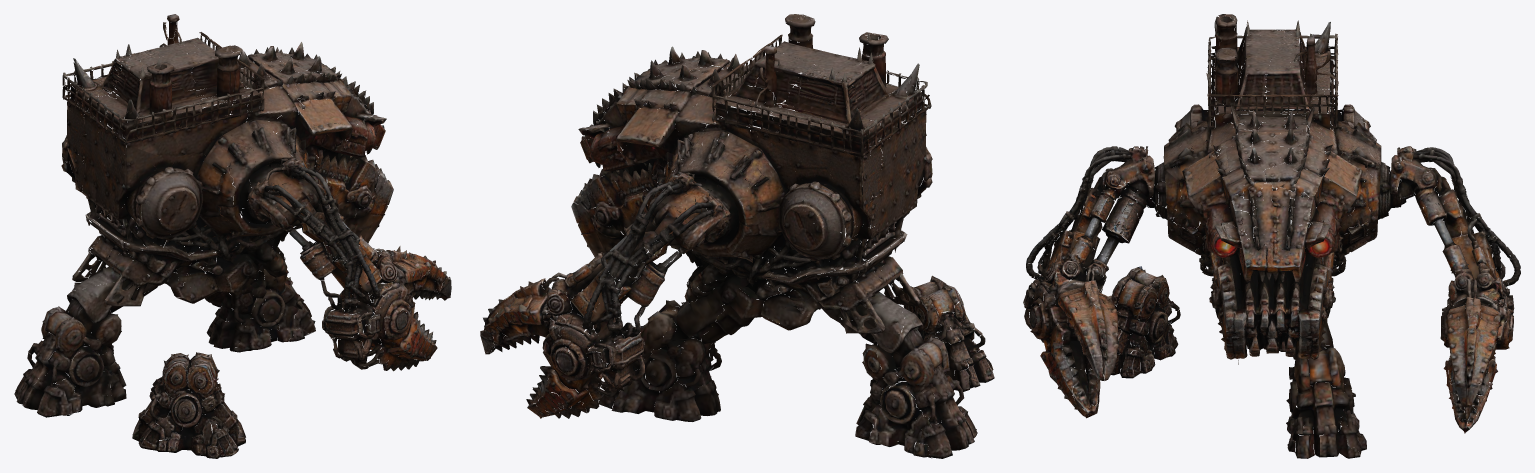
File: tb_crusher.glb
3 views of the same model, side by side, from view 1: azimuth 30°, elevation 25°; view 2: azimuth 150°, elevation 25°; view 3: azimuth 270°, elevation 25° (orthographic). The views are drawn at different scales.
Parts seen in each view (by area): view 1: tripo_node_aa430acc-5d20-42b7-bdc5-3c33c99394d3; view 2: tripo_node_aa430acc-5d20-42b7-bdc5-3c33c99394d3; view 3: tripo_node_aa430acc-5d20-42b7-bdc5-3c33c99394d3.
Part boxes in pixels (bbox=[...]): tripo_node_aa430acc-5d20-42b7-bdc5-3c33c99394d3: bbox=[14, 14, 451, 458]; tripo_node_aa430acc-5d20-42b7-bdc5-3c33c99394d3: bbox=[480, 14, 994, 458]; tripo_node_aa430acc-5d20-42b7-bdc5-3c33c99394d3: bbox=[1023, 14, 1520, 458].
Size of the model in its own units: 0.8278 by 0.7713 by 0.9806.
1 material, 1 textured.
